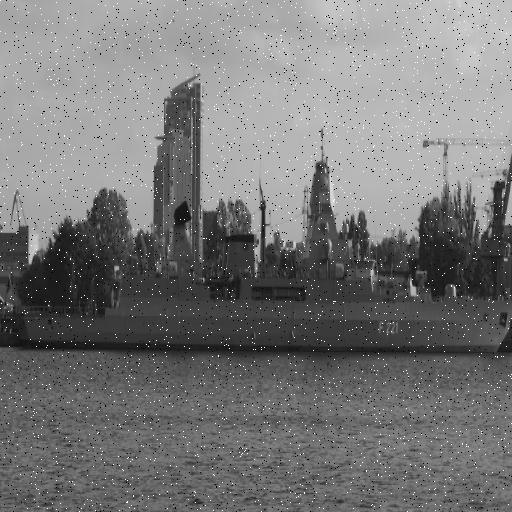Fragata: (12, 111, 512, 353)
